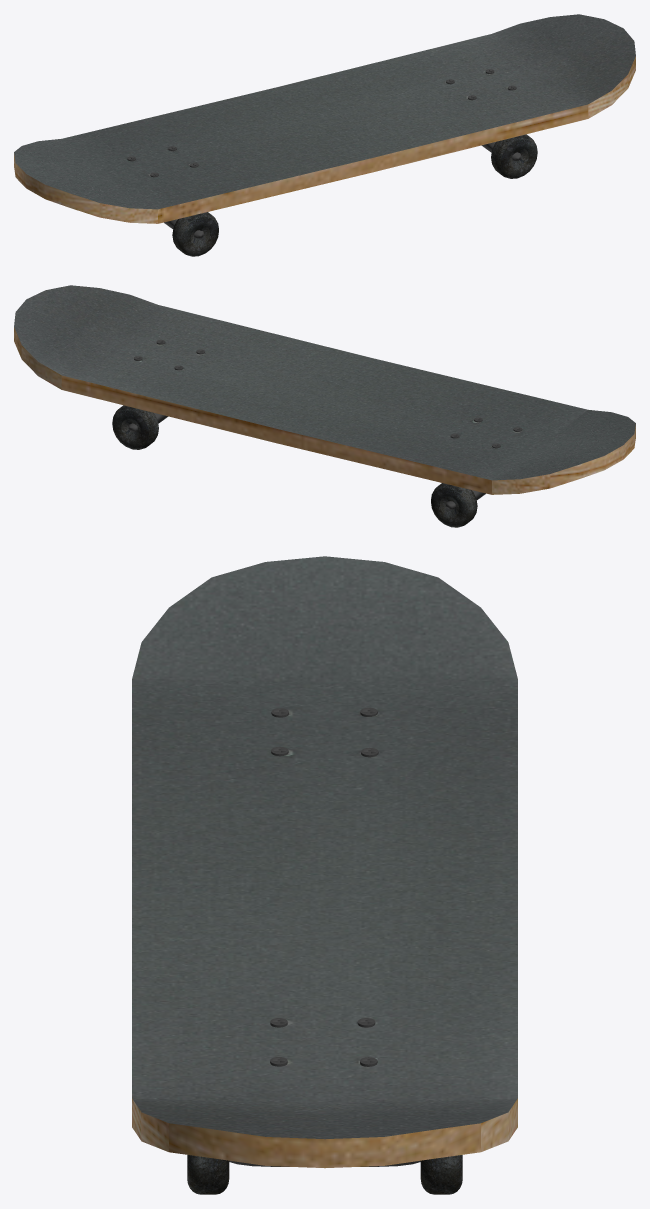
Rendered from Skateboard.obj.
The picture shows the model from 3 angles, top to bottom: view 1: azimuth 30°, elevation 25°; view 2: azimuth 150°, elevation 25°; view 3: azimuth 270°, elevation 25°; orthographic projection. The views are drawn at different scales.
Parts seen in each view (by area): view 1: pCylinder37, pTorus19 pTorus20 pTorus21 pTorus22; view 2: pCylinder37, pTorus19 pTorus20 pTorus21 pTorus22; view 3: pCylinder37, pTorus19 pTorus20 pTorus21 pTorus22.
Boxes of the visible parts, box(x1,y1,x2,y2) form: pCylinder37: box(14, 14, 635, 223); pTorus19 pTorus20 pTorus21 pTorus22: box(172, 134, 537, 256); pCylinder37: box(14, 285, 635, 494); pTorus19 pTorus20 pTorus21 pTorus22: box(112, 405, 477, 527); pCylinder37: box(132, 556, 517, 1168); pTorus19 pTorus20 pTorus21 pTorus22: box(187, 1155, 462, 1194).
Size of the model in its own units: 7.15 by 1.07 by 2.
3 materials, 2 textured.
